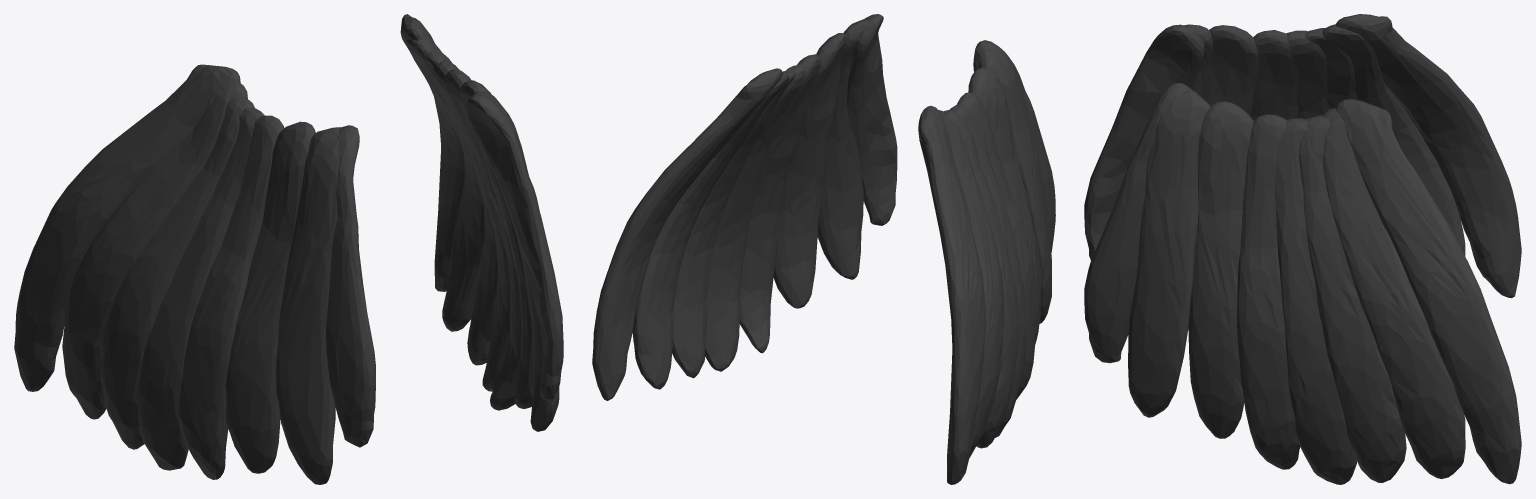
File: m_serratus_ventralis_thoracis.glb
The picture shows the model from 3 angles, left to right: view 1: azimuth 30°, elevation 25°; view 2: azimuth 150°, elevation 25°; view 3: azimuth 270°, elevation 25°; orthographic projection. The views are drawn at different scales.
Parts seen in each view (by area): view 1: m_serratus_ventralis_thoracis; view 2: m_serratus_ventralis_thoracis; view 3: m_serratus_ventralis_thoracis.
Boxes of the visible parts, x1=… form: m_serratus_ventralis_thoracis: x1=14, y1=14, x2=563, y2=484; m_serratus_ventralis_thoracis: x1=592, y1=14, x2=1055, y2=484; m_serratus_ventralis_thoracis: x1=1084, y1=14, x2=1521, y2=484.
Size of the model in its own units: 0.00733 by 0.00605 by 0.00675.
1 material, 1 textured.
